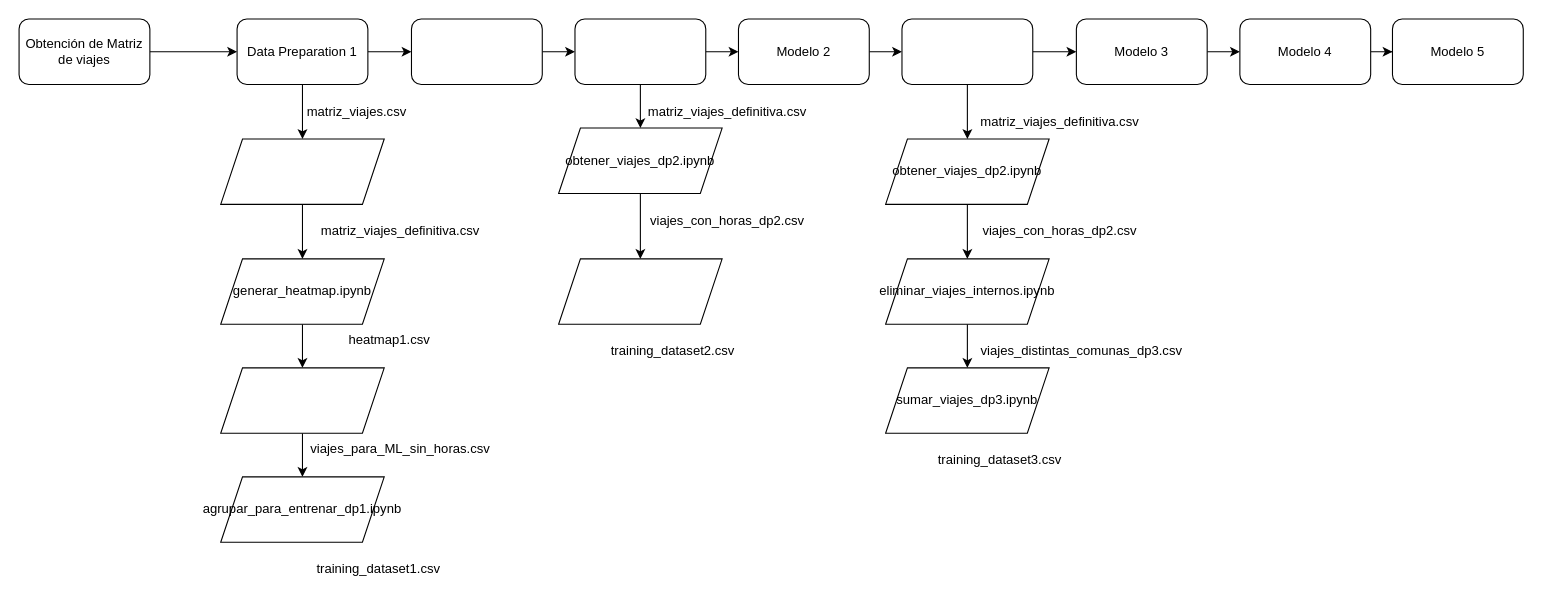
Some shapes in this 1542 by 605 pixel diagram are drawn without their labels. The shapes that lost their labels are listed below. From the top down, each one's centre as x and y in pixels, then its label:
At (476,51): "Modelo 1".
At (640,51): "Data Preparation 2".
At (967,51): "Data Preparation 3".
At (302,171): "normalización.ipynb".
At (640,291): "sumar_viajes_dp2.ipynb".
At (302,400): "preparacion_para_ML.ipynb".
